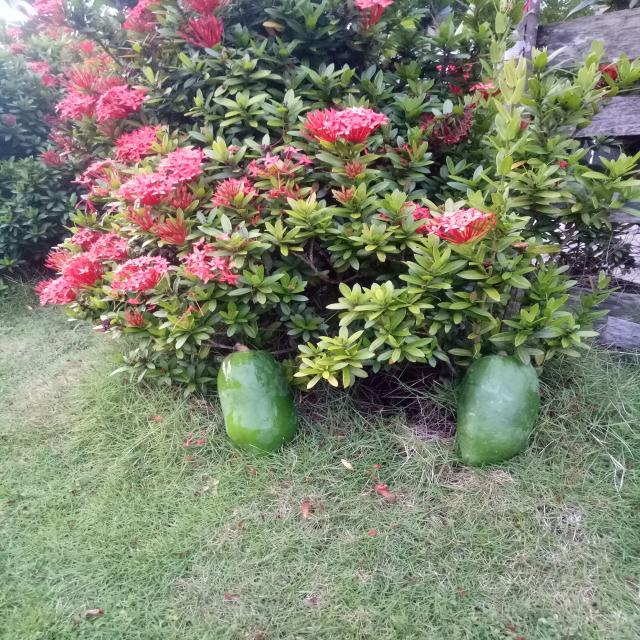Pepaya unrippen: (449, 349, 550, 474), (200, 342, 305, 453)
